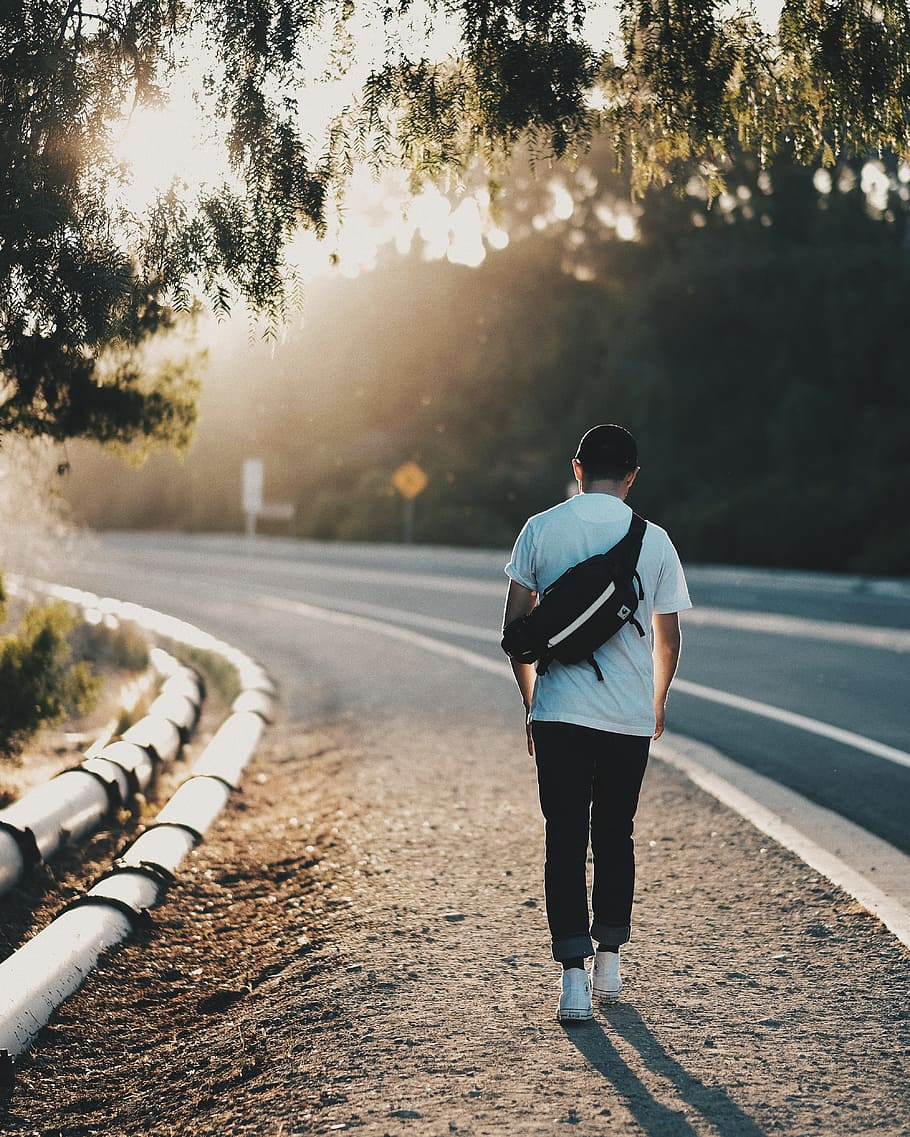Person: (498, 419, 693, 1033)
